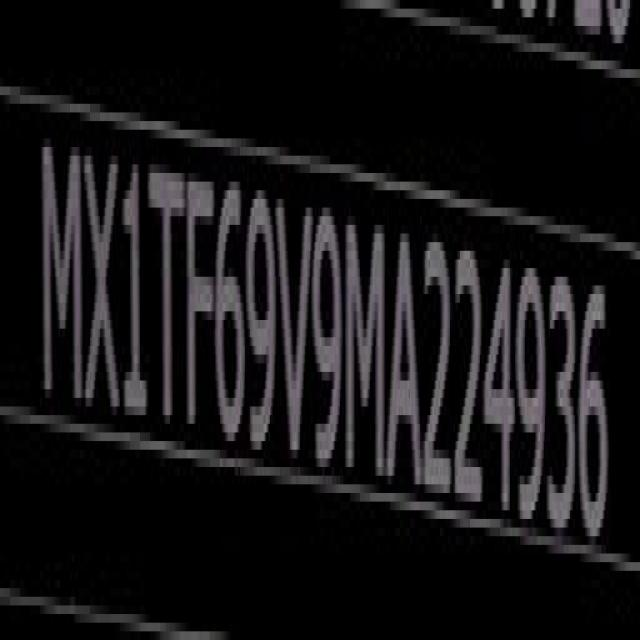1: (122, 148, 144, 434)
2: (456, 236, 484, 516), (425, 227, 452, 510)
3: (553, 269, 579, 542)
4: (485, 242, 514, 524)
6: (582, 282, 614, 554), (216, 178, 246, 457)
9: (313, 197, 342, 483), (518, 262, 548, 532), (249, 181, 277, 463)
A: (391, 215, 424, 496)
F: (188, 168, 216, 450)
M: (39, 123, 85, 422), (346, 209, 386, 491)
T: (153, 159, 183, 446)
V: (281, 186, 313, 475)
X: (86, 143, 121, 434)
